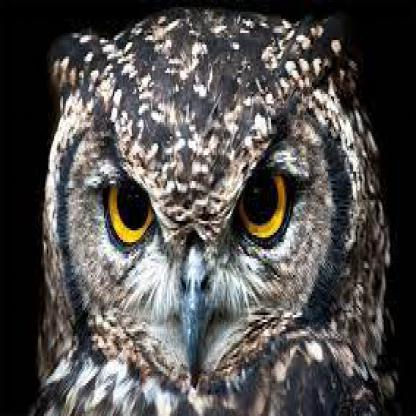owl: (29, 0, 340, 414)
